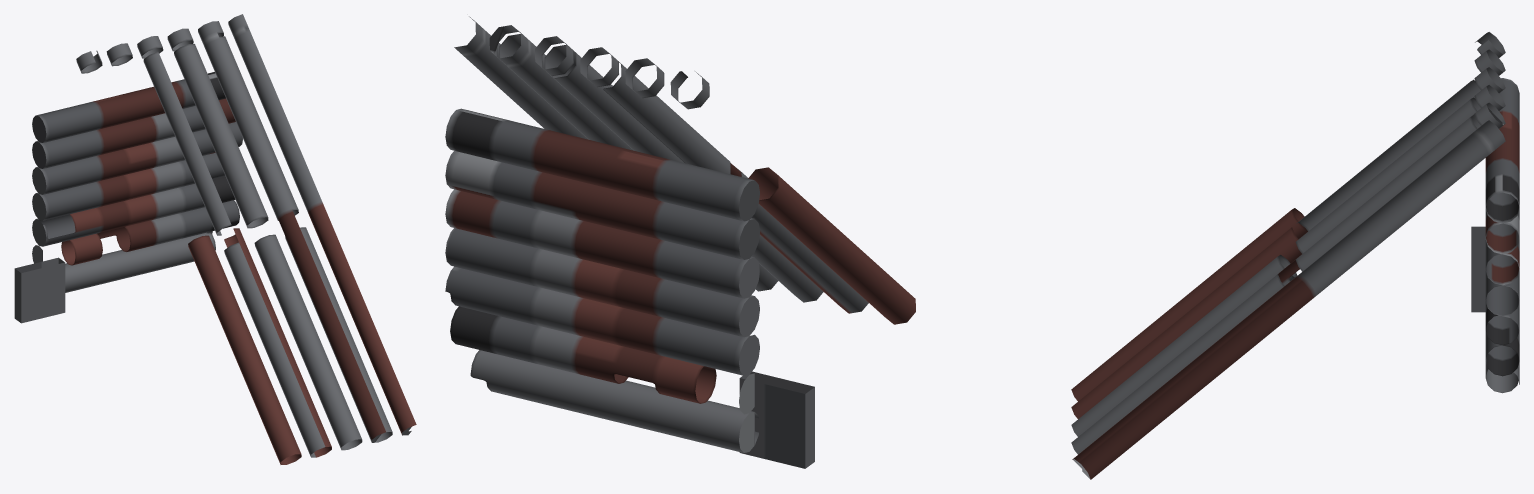
Rendered from section-0.obj.
3 renders of one model, left to right at view 1: azimuth 30°, elevation 25°; view 2: azimuth 150°, elevation 25°; view 3: azimuth 270°, elevation 25°, orthographic. The views are drawn at different scales.
Bounding box in the file's own units: 1.01 × 1.27 × 1.45.
